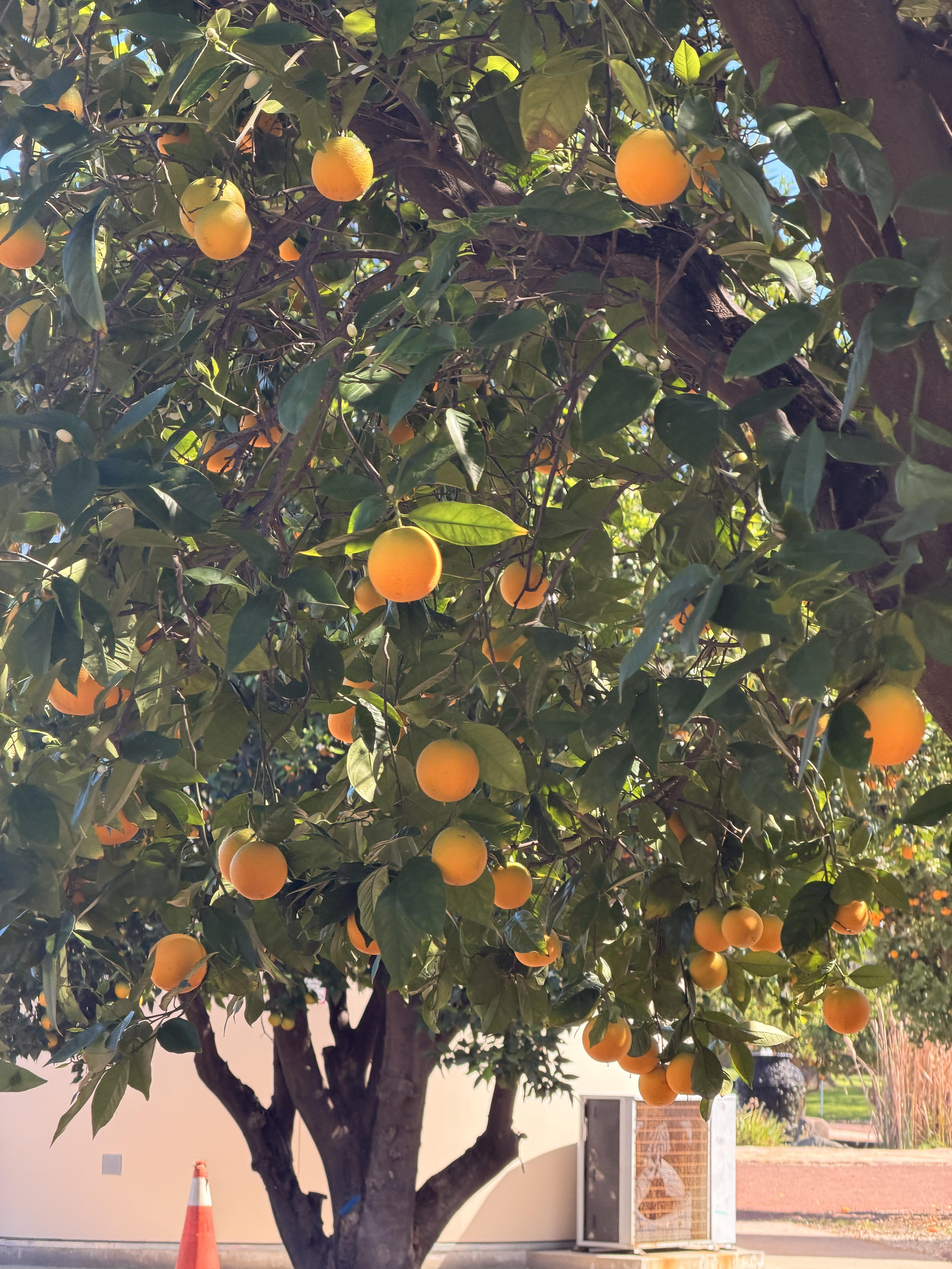orange: (615, 128, 690, 206), (368, 527, 442, 603), (859, 684, 925, 766), (178, 176, 245, 240), (416, 739, 479, 803), (312, 136, 373, 202), (49, 668, 131, 715), (148, 933, 207, 994), (230, 840, 287, 900), (195, 200, 252, 260), (432, 825, 487, 886), (0, 210, 45, 269), (583, 1012, 632, 1063), (499, 561, 548, 609), (823, 987, 871, 1034), (514, 920, 561, 966), (490, 862, 532, 910), (218, 828, 255, 881), (483, 627, 531, 667), (240, 107, 284, 149), (617, 1035, 660, 1076), (637, 1064, 678, 1106), (693, 906, 730, 952), (200, 429, 238, 473), (6, 297, 41, 344), (722, 908, 762, 948), (94, 810, 140, 844), (691, 147, 724, 194), (688, 951, 727, 989), (529, 445, 574, 477), (347, 911, 379, 955), (240, 415, 282, 448), (832, 900, 870, 936), (751, 913, 783, 953), (667, 1053, 697, 1095), (46, 86, 83, 120), (354, 577, 386, 613), (327, 706, 355, 744), (380, 419, 415, 446), (157, 127, 190, 154), (278, 239, 300, 261), (114, 981, 130, 999), (268, 1012, 282, 1028), (45, 1034, 58, 1049), (40, 1013, 51, 1030), (281, 1017, 295, 1030), (305, 992, 316, 1005), (38, 991, 46, 1008), (200, 194, 200, 194), (647, 165, 648, 165), (770, 931, 770, 931), (714, 970, 714, 970)
